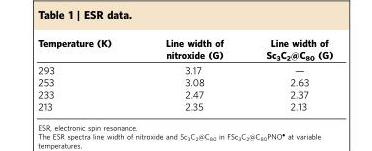table: (37, 37, 332, 111)
table column: (137, 37, 244, 111), (37, 37, 137, 111), (244, 37, 332, 111)
table column header: (37, 37, 332, 62)
table row: (37, 37, 332, 62), (37, 62, 332, 76), (37, 76, 332, 88), (37, 88, 332, 100), (37, 100, 332, 111)
